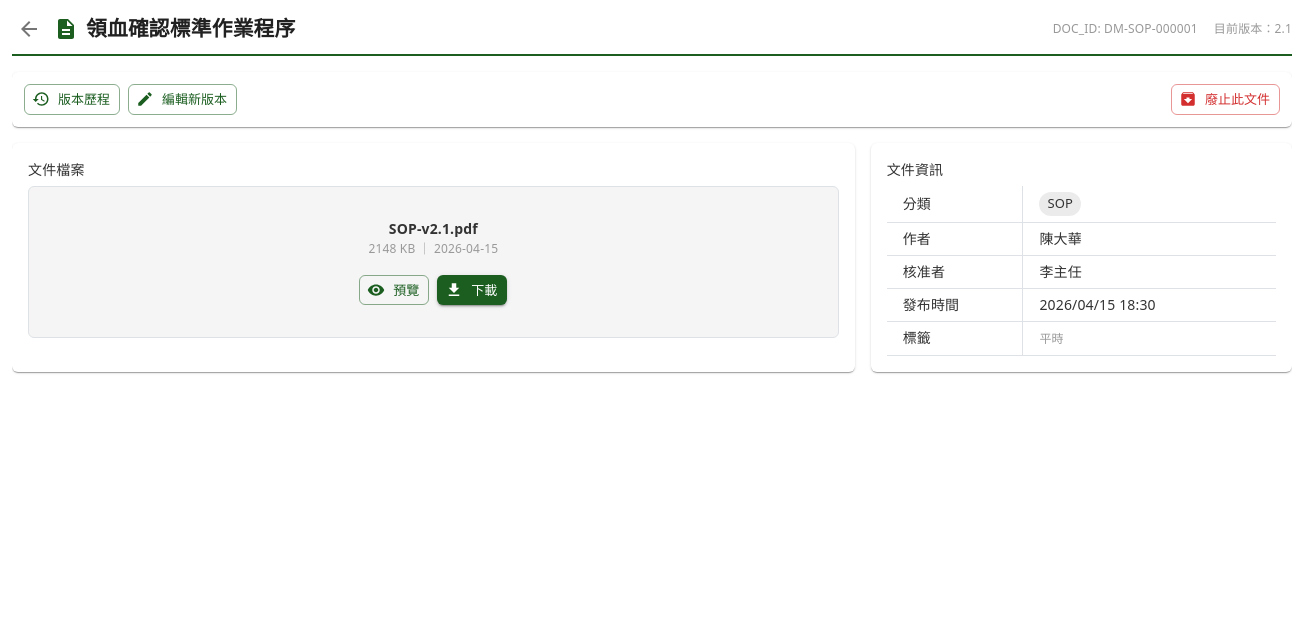
Test: DmDetailPage 動作入口與版本說明（#600） › 一般文件的 Office 舊版：無預覽 / 下載鈕，改顯示聯絡管理者提示
Expected: the heading "領血確認標準作業程序" is shown, [86, 13, 296, 45]
Click the button "版本歷程" at x=72, y=99, box [24, 84, 120, 115]
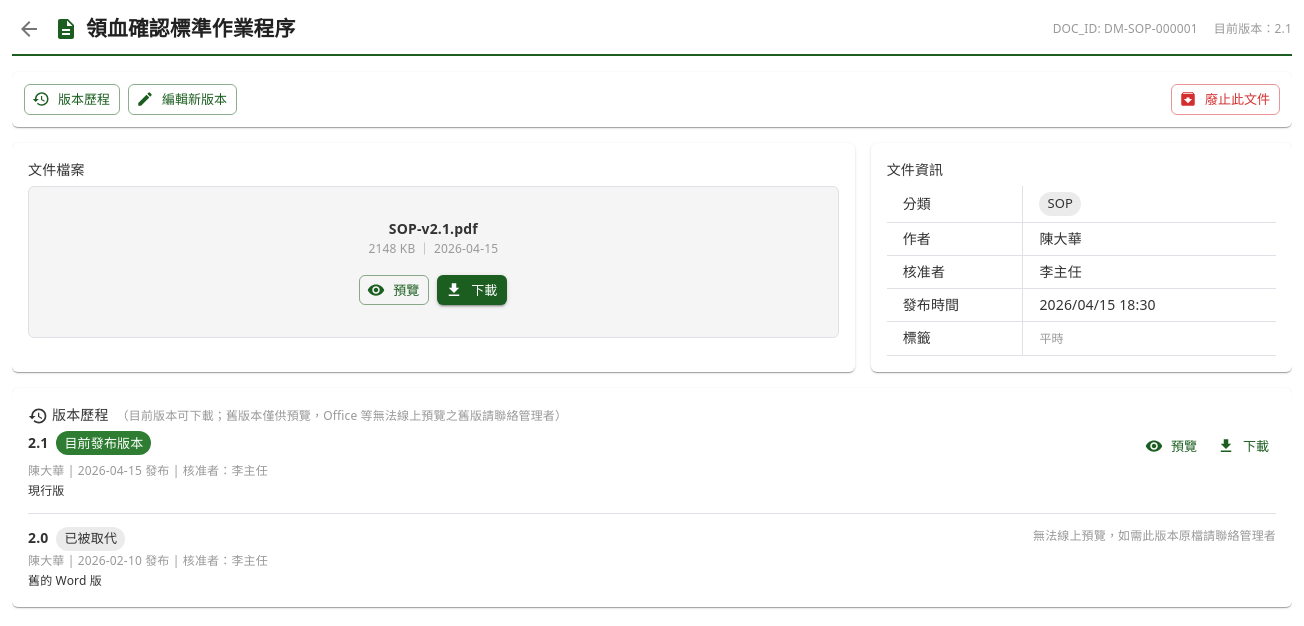
Now the text "2.0" is shown, box [28, 528, 48, 547]
Now the text "已被取代" is shown, box [64, 529, 117, 547]
Now the text "無法線上預覽，如需此版本原檔請聯絡管理者" is shown, box [1033, 526, 1276, 546]
